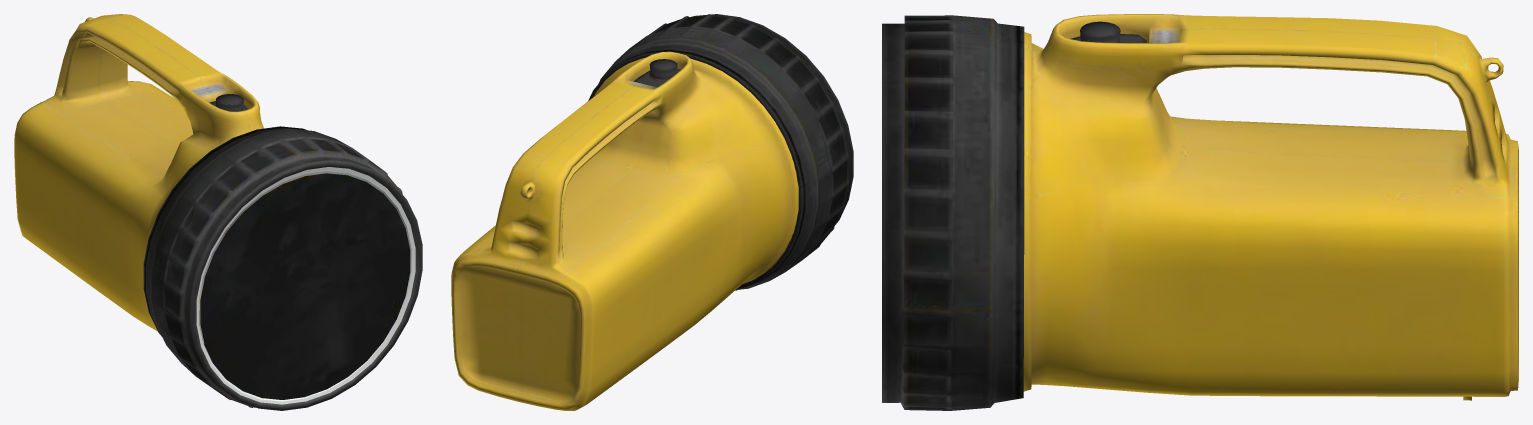
File: pastic_torch_6v.glb
The picture shows the model from 3 angles, left to right: view 1: azimuth 30°, elevation 25°; view 2: azimuth 150°, elevation 25°; view 3: azimuth 270°, elevation 25°; orthographic projection. The views are drawn at different scales.
Visible parts, largest first — view 1: pastic_torch_6v; view 2: pastic_torch_6v; view 3: pastic_torch_6v.
Boxes of the visible parts, bbox=[...] form: pastic_torch_6v: bbox=[14, 14, 422, 410]; pastic_torch_6v: bbox=[451, 14, 853, 410]; pastic_torch_6v: bbox=[882, 14, 1518, 410].
Bounding box in the file's own units: 0.1369 × 0.1417 × 0.2242.
Materials: 2 (2 with a texture image).
